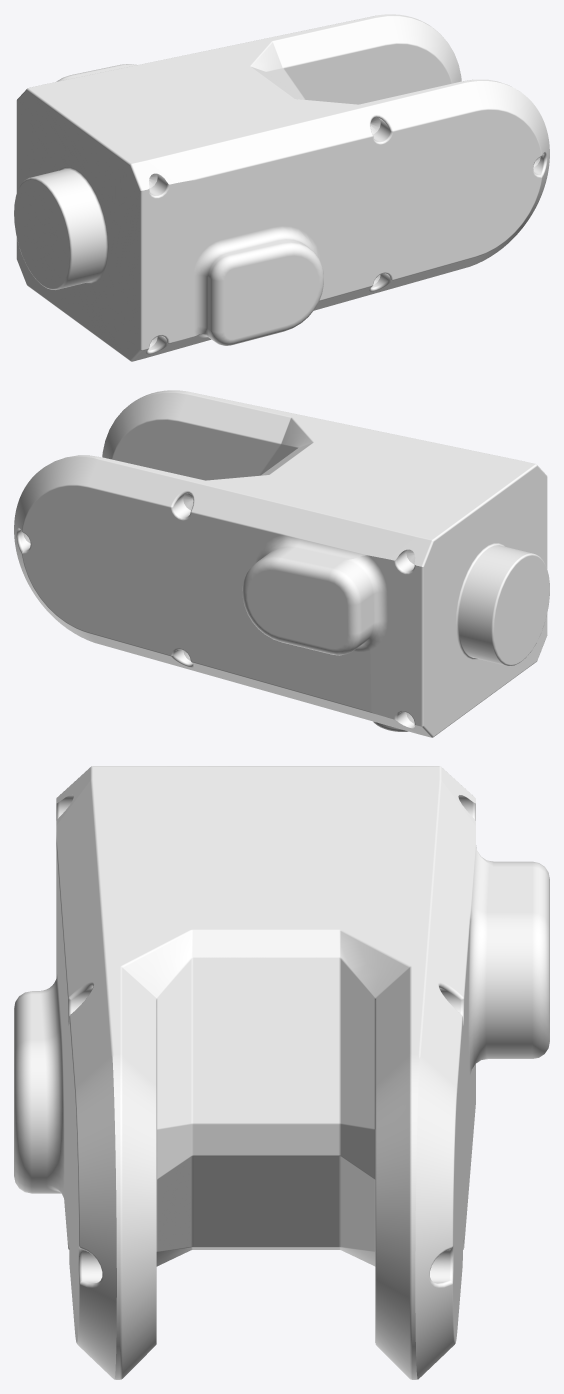
Rendered from Axis4.obj.
3 views of the same model, one above another, from view 1: azimuth 30°, elevation 25°; view 2: azimuth 150°, elevation 25°; view 3: azimuth 270°, elevation 25° (orthographic). The views are drawn at different scales.
Visible parts, largest first — view 1: Axis4; view 2: Axis4; view 3: Axis4.
Boxes of the visible parts, left/top/right/bottom form: Axis4: left=14, top=14, right=549, bottom=361; Axis4: left=14, top=390, right=549, bottom=737; Axis4: left=14, top=766, right=549, bottom=1379.
Size of the model in its own units: 255 by 122 by 152.
Materials: 2 (1 with a texture image).
